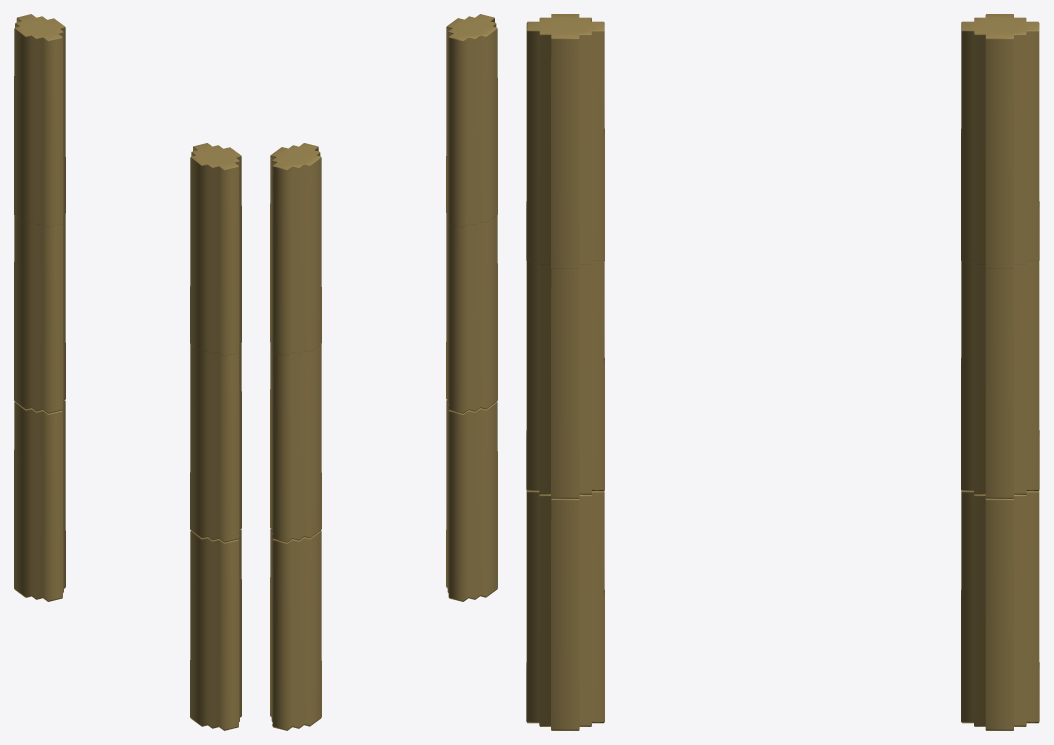
The model's file is Wall_Arc_08C_Lod0.fbx.
3 renders of one model, left to right at view 1: azimuth 30°, elevation 25°; view 2: azimuth 150°, elevation 25°; view 3: azimuth 270°, elevation 25°, orthographic. The views are drawn at different scales.
Parts seen in each view (by area): view 1: Wall_Arc_08C_Lod0; view 2: Wall_Arc_08C_Lod0; view 3: Wall_Arc_08C_Lod0.
Boxes of the visible parts, bbox=[...] form: Wall_Arc_08C_Lod0: bbox=[14, 14, 241, 730]; Wall_Arc_08C_Lod0: bbox=[270, 14, 497, 730]; Wall_Arc_08C_Lod0: bbox=[526, 14, 1039, 730].
Bounding box in the file's own units: 67.22 × 894 × 600.
